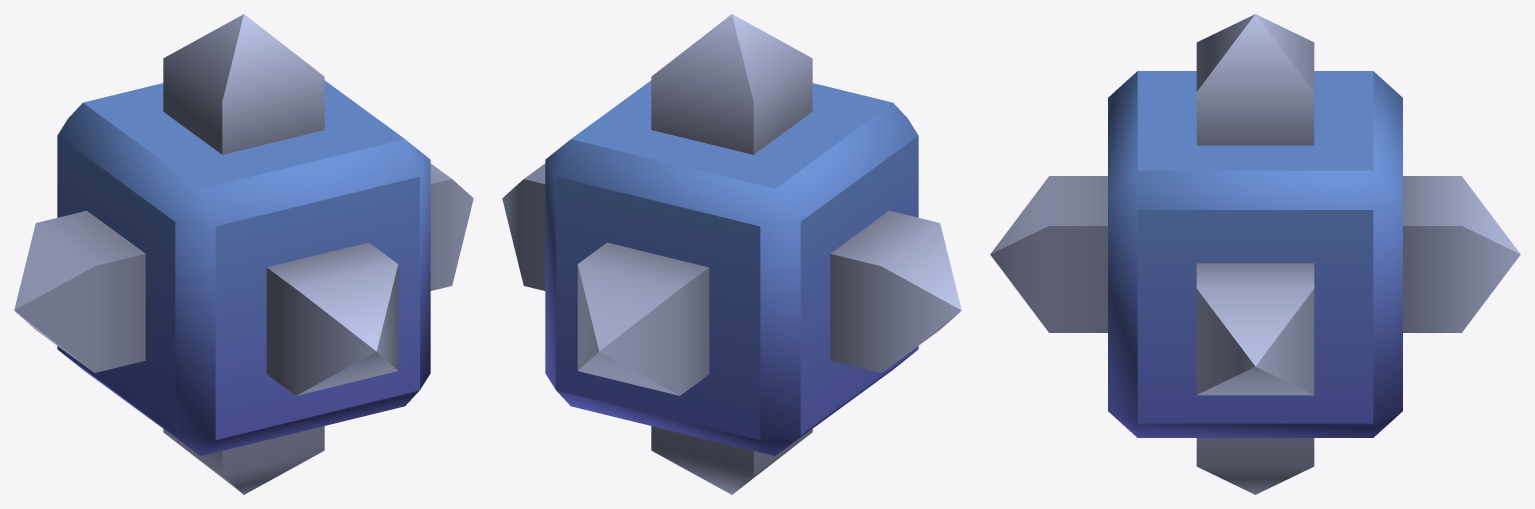
The model's file is spike-block.glb.
3 renders of one model, left to right at view 1: azimuth 30°, elevation 25°; view 2: azimuth 150°, elevation 25°; view 3: azimuth 270°, elevation 25°, orthographic.
Visible parts, largest first — view 1: spike-block; view 2: spike-block; view 3: spike-block.
Part boxes in pixels (left/top/right/bottom): spike-block: left=14, top=14, right=473, bottom=494; spike-block: left=502, top=14, right=961, bottom=494; spike-block: left=990, top=14, right=1520, bottom=494.
Bounding box in the file's own units: 0.9 × 0.9 × 0.9.
Materials: 1 (1 with a texture image).
